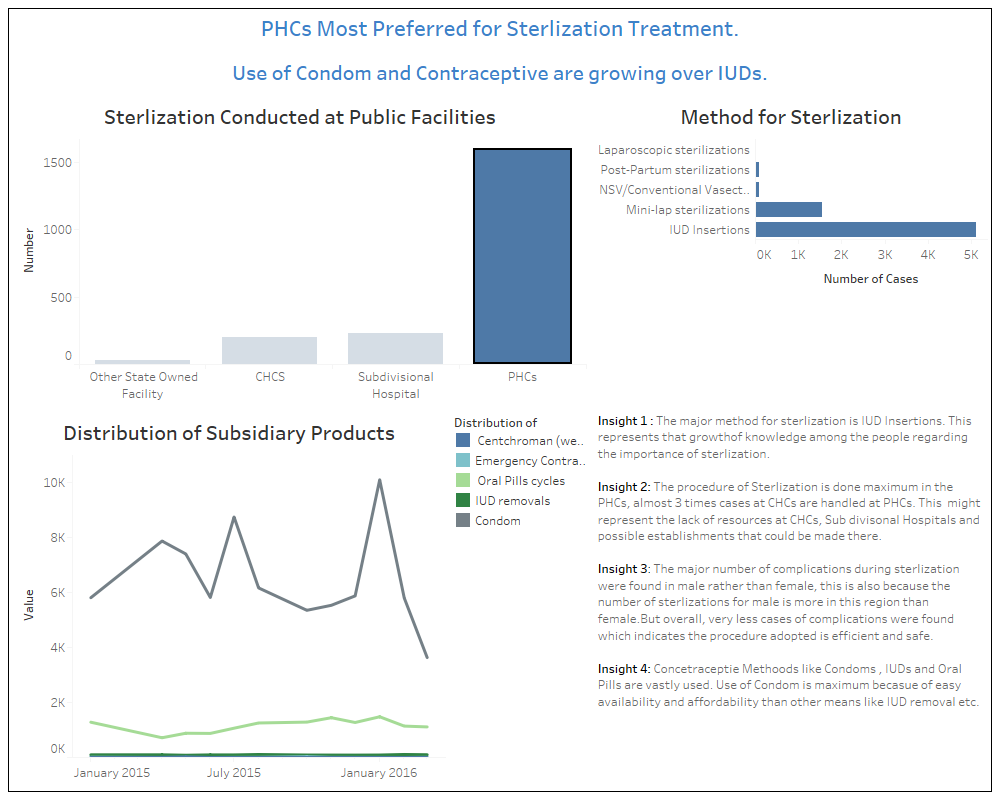

What the dashboard file says about the page in this screenshot:
{"tool":"tableau","page":{"name":"Sterlization","canvas":[1000,800],"ordinal":3},"visuals":[{"type":"text","box":[9,9,982,82.8]},{"type":"worksheet","title":"Sterlization at Various Units","mark":"Bar","box":[9,91.8,581.8,316.2]},{"type":"worksheet","title":"Mode of Sterlization","mark":"Automatic","box":[590.8,91.8,400.2,246.4]},{"type":"text","box":[590.8,338.1,400.2,452.9]},{"type":"worksheet","title":"Use of Subsidiary Product","mark":"Line","cols":["Key_ID"],"box":[9,408,440.1,383]},{"type":"legend","title":"Use of Subsidiary Product","param":"[federated.1tdhik11esly3z1fj6mvc150awxe].[:Measure Names]","box":[449.1,408,141.7,383]}]}

Visuals, with their boxes in screenshot pixels (x1, y1, x2, y2), scaled from the page's 1000x800 canvas onto the 1000x800 screenshot:
text: locate(9, 9, 991, 92)
"Sterlization at Various Units" worksheet (Bar marks): locate(9, 92, 591, 408)
"Mode of Sterlization" worksheet: locate(591, 92, 991, 338)
text: locate(591, 338, 991, 791)
"Use of Subsidiary Product" worksheet (Line marks): locate(9, 408, 449, 791)
"Use of Subsidiary Product" legend: locate(449, 408, 591, 791)
